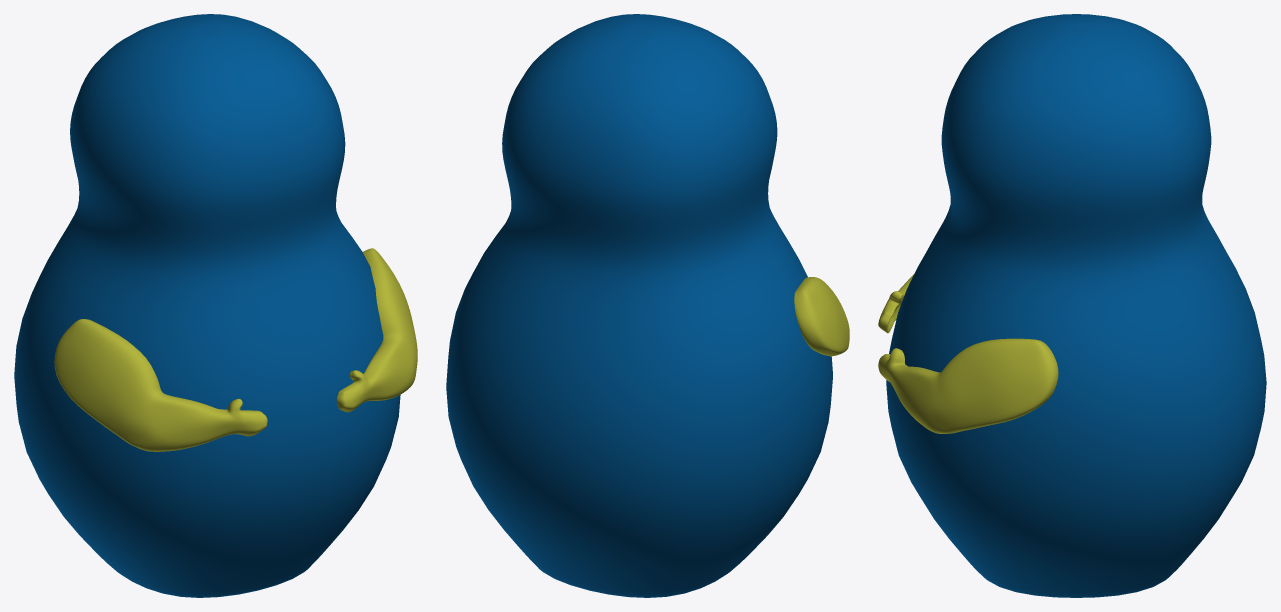
File: blue-1.glb
The picture shows the model from 3 angles, left to right: view 1: azimuth 30°, elevation 25°; view 2: azimuth 150°, elevation 25°; view 3: azimuth 270°, elevation 25°; orthographic projection.
Parts seen in each view (by area): view 1: Cube, Cube.001; view 2: Cube, Cube.001; view 3: Cube, Cube.001.
Part boxes in pixels (left/top/right/bottom): Cube: left=14, top=14, right=400, bottom=597; Cube.001: left=54, top=248, right=417, bottom=451; Cube: left=446, top=14, right=832, bottom=597; Cube.001: left=794, top=277, right=849, bottom=356; Cube: left=886, top=14, right=1266, bottom=597; Cube.001: left=878, top=274, right=1058, bottom=433.
Bounding box in the file's own units: 2.96 × 4.36 × 2.9.
